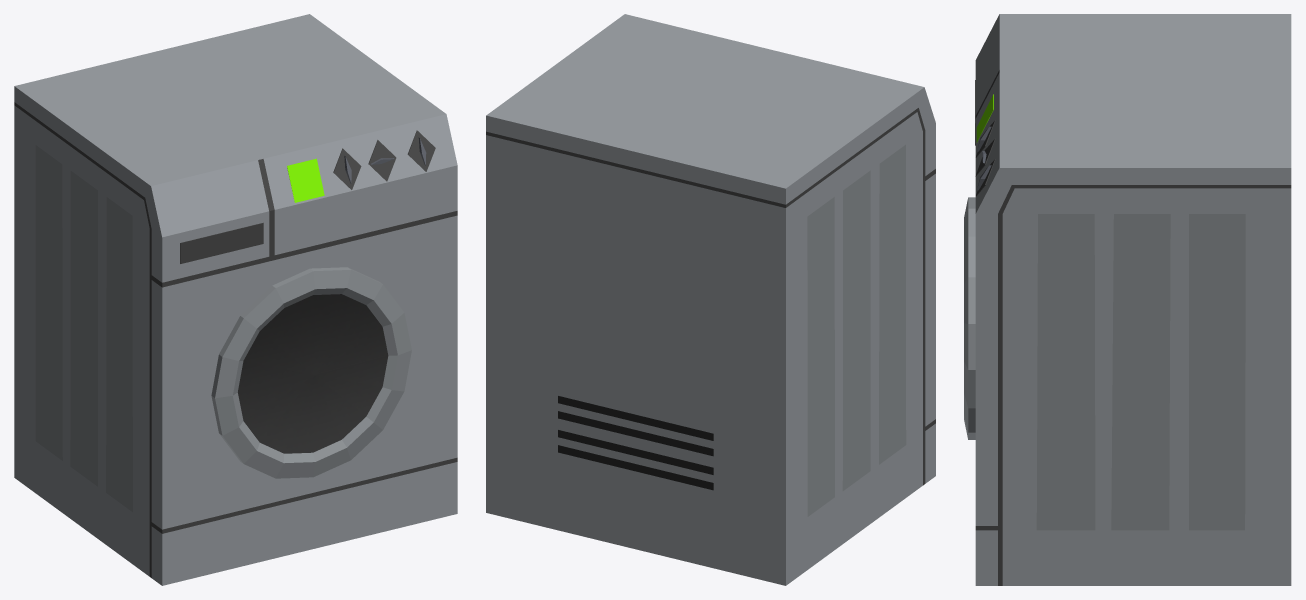
Rendered from Washing_Machine.fbx.
3 renders of one model, left to right at view 1: azimuth 30°, elevation 25°; view 2: azimuth 150°, elevation 25°; view 3: azimuth 270°, elevation 25°, orthographic. The views are drawn at different scales.
Parts seen in each view (by area): view 1: polySurface1859; view 2: polySurface1859; view 3: polySurface1859.
Part boxes in pixels (x1=…): polySurface1859: x1=14, y1=14, x2=457, y2=585; polySurface1859: x1=486, y1=14, x2=935, y2=585; polySurface1859: x1=964, y1=14, x2=1291, y2=585.
Bounding box in the file's own units: 1.5 × 1.9 × 1.35.
1 material, 1 textured.
